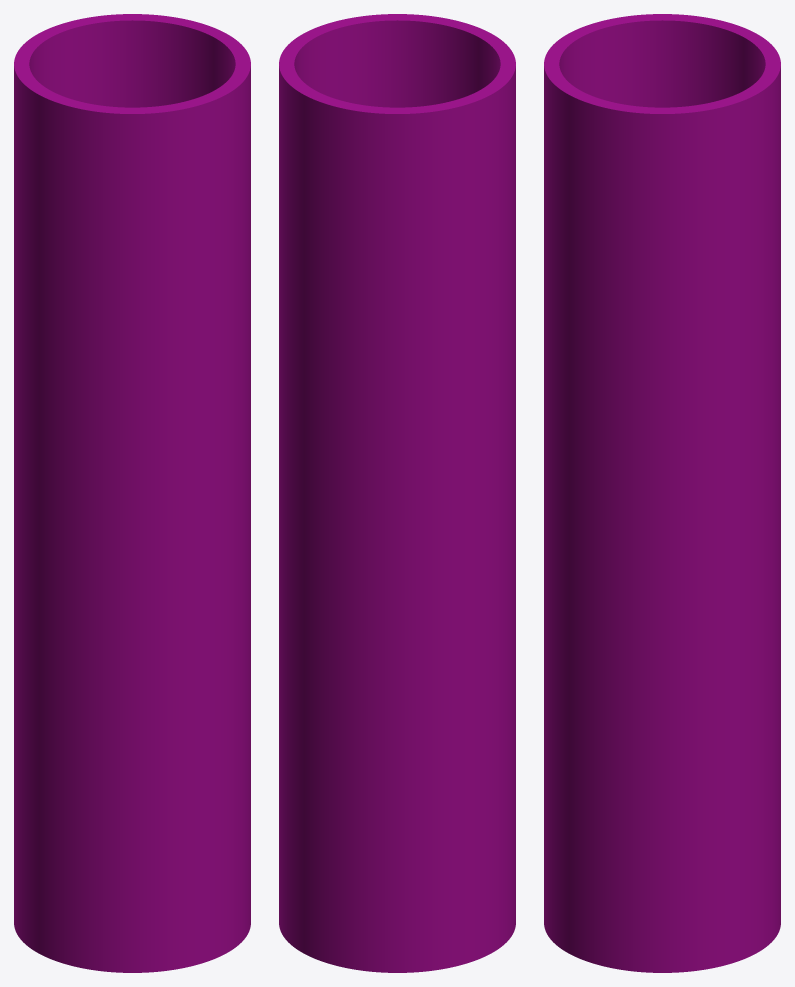
File: bottle.dae
The picture shows the model from 3 angles, left to right: view 1: azimuth 30°, elevation 25°; view 2: azimuth 150°, elevation 25°; view 3: azimuth 270°, elevation 25°; orthographic projection.
Visible parts, largest first — view 1: bottle; view 2: bottle; view 3: bottle.
Part boxes in pixels (box(x1,y1,x2,y2)): bottle: box(14, 14, 250, 972); bottle: box(279, 14, 515, 972); bottle: box(544, 14, 780, 972).
Bounding box in the file's own units: 0.0508 × 0.0508 × 0.2032.
